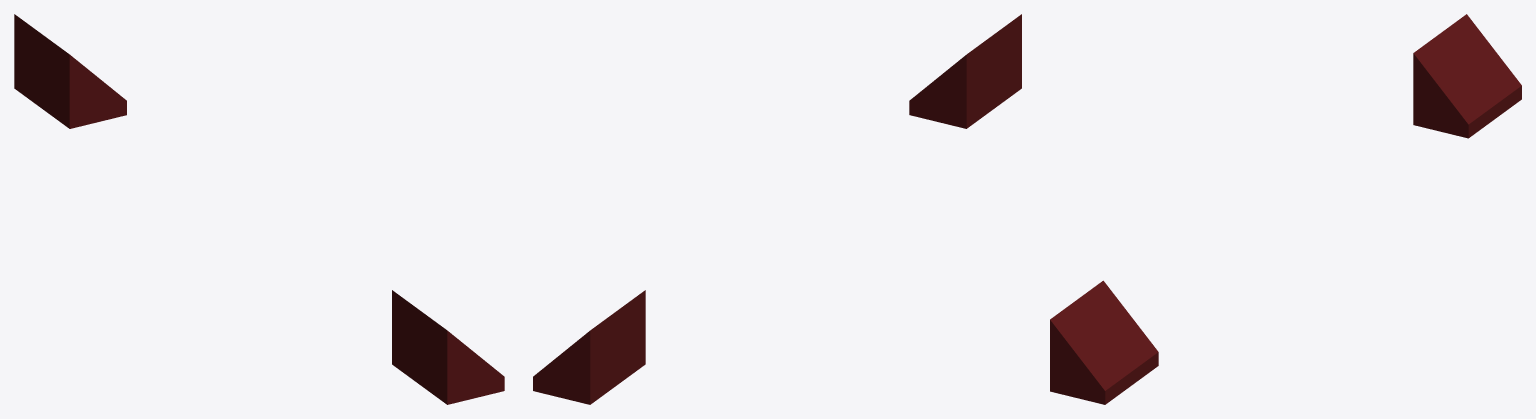
The model's file is OnlyRamps.fbx.
3 renders of one model, left to right at view 1: azimuth 30°, elevation 25°; view 2: azimuth 150°, elevation 25°; view 3: azimuth 330°, elevation 25°, orthographic. The views are drawn at different scales.
Visible parts, largest first — view 1: Cube.551, Cube; view 2: Cube.551, Cube; view 3: Cube.551, Cube.
Part boxes in pixels (<box>): Cube.551: <box>14,14,126,128</box>; Cube: <box>392,290,504,404</box>; Cube.551: <box>533,290,645,404</box>; Cube: <box>909,14,1021,128</box>; Cube.551: <box>1413,14,1521,138</box>; Cube: <box>1050,280,1158,404</box>.
Size of the model in its own units: 203 by 251 by 2638.
